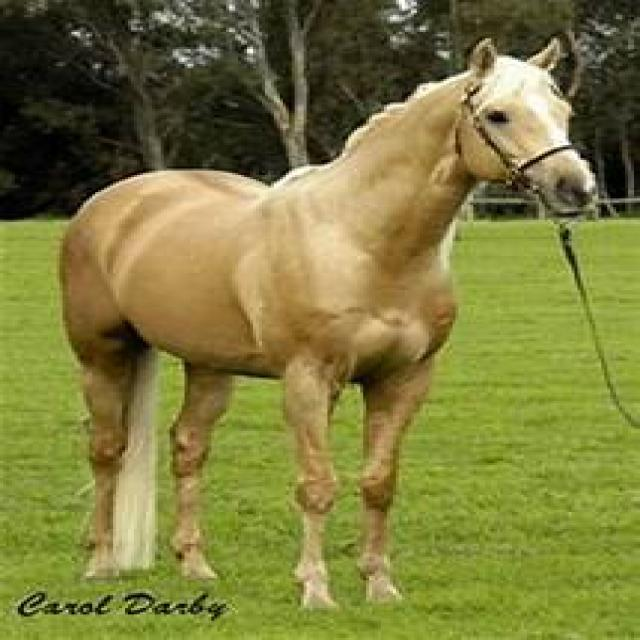horse: (77, 32, 597, 605)
